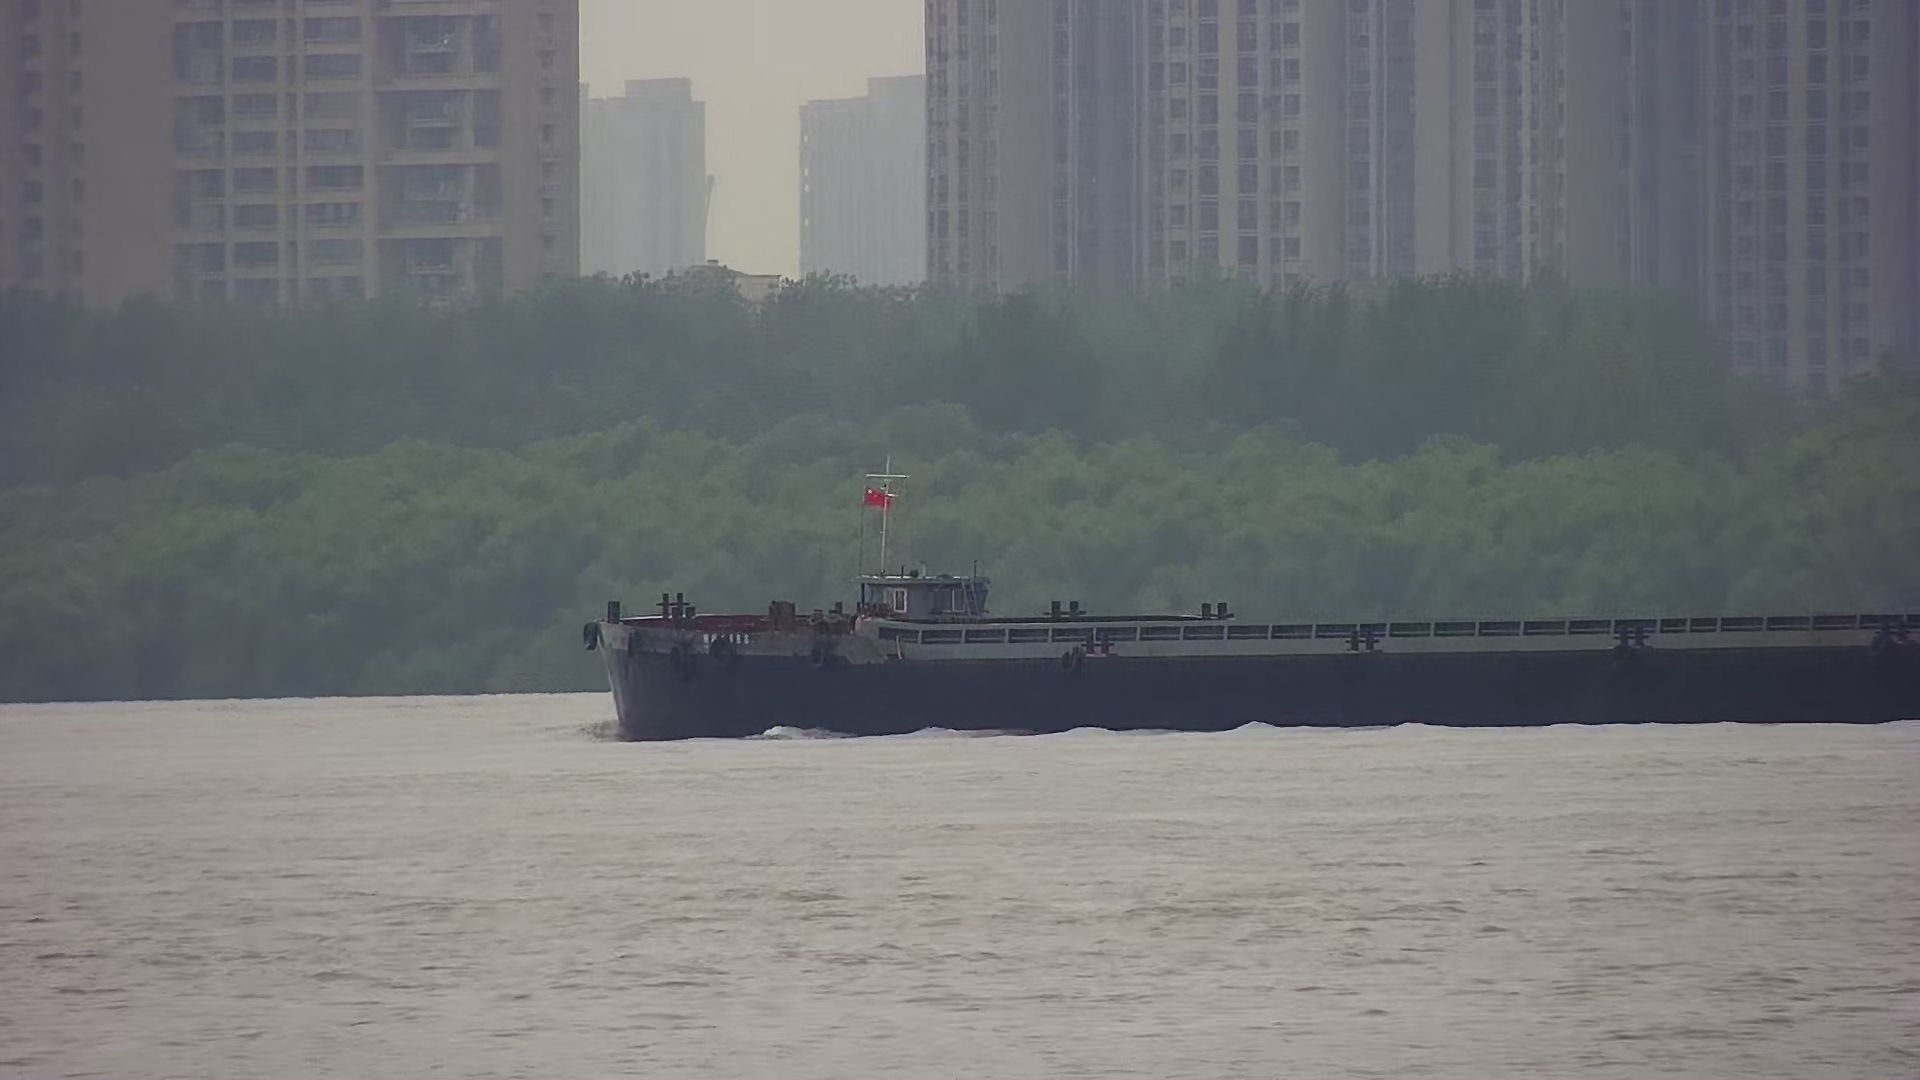ship: (576, 560, 1920, 742)
